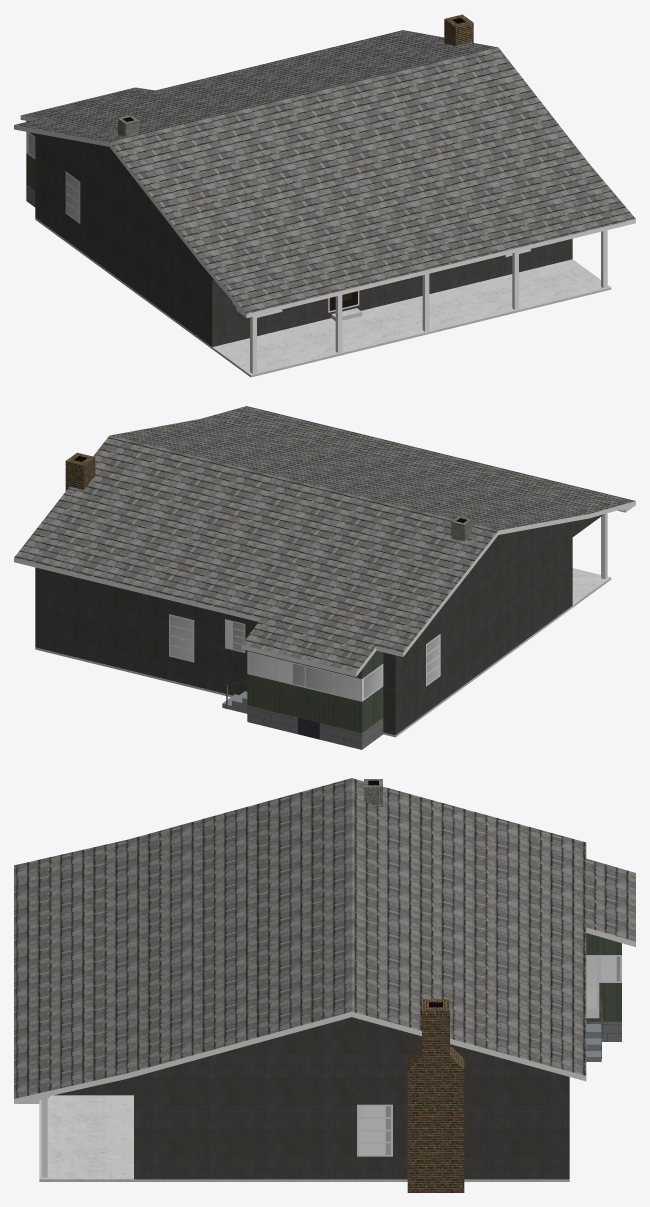
The model's file is byers_house.glb.
3 renders of one model, top to bottom at view 1: azimuth 30°, elevation 25°; view 2: azimuth 150°, elevation 25°; view 3: azimuth 270°, elevation 25°, orthographic. The views are drawn at different scales.
Parts seen in each view (by area): view 1: Material2 (×6); view 2: Material2 (×8); view 3: Material2 (×8).
Boxes of the visible parts, x1,y1,x2,y2 form: Material2 (×6): (14, 14, 635, 377); Material2 (×8): (14, 406, 635, 749); Material2 (×8): (14, 778, 635, 1192).
Size of the model in its own units: 580 by 219 by 646.
16 materials, 14 textured.
